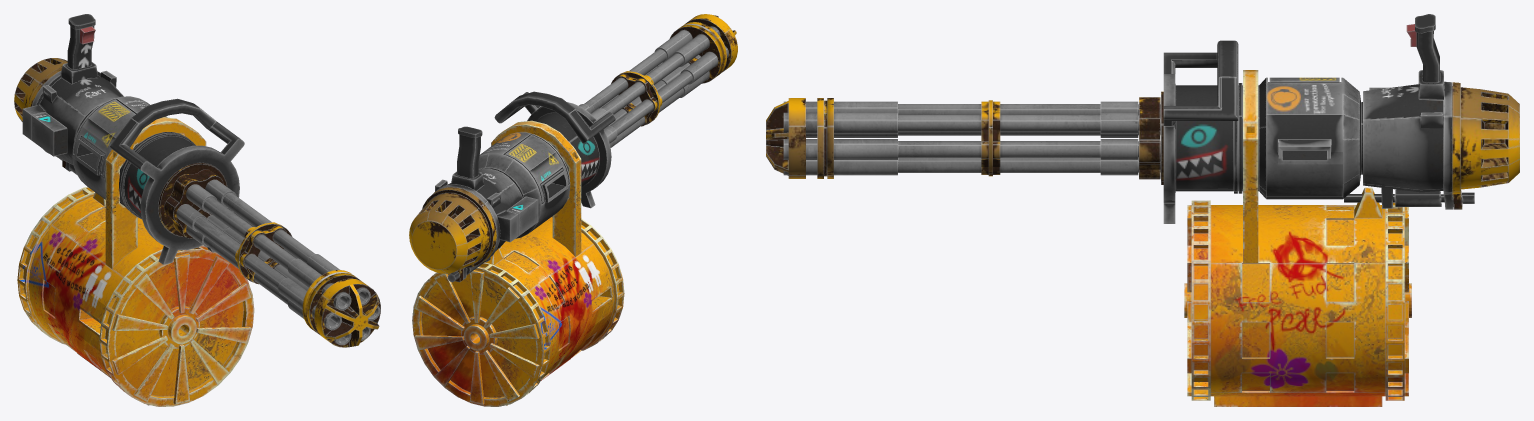
3 views of the same model, side by side, from view 1: azimuth 30°, elevation 25°; view 2: azimuth 150°, elevation 25°; view 3: azimuth 270°, elevation 25° (orthographic). The views are drawn at different scales.
Visible parts, largest first — view 1: Ammodrum, Body, Barrel_13 - Default_0, Barrel_09 - Default_0, Barrel_03 - Default_0; view 2: Ammodrum, Body, Barrel_13 - Default_0, Barrel_09 - Default_0; view 3: Ammodrum, Body, Barrel_13 - Default_0, Barrel_09 - Default_0.
Boxes of the visible parts, bbox=[...] form: Ammodrum: bbox=[17, 117, 254, 406]; Body: bbox=[14, 14, 244, 264]; Barrel_13 - Default_0: bbox=[176, 179, 380, 345]; Barrel_09 - Default_0: bbox=[164, 169, 380, 347]; Barrel_03 - Default_0: bbox=[158, 163, 227, 237]; Ammodrum: bbox=[412, 120, 624, 406]; Body: bbox=[409, 91, 615, 282]; Barrel_13 - Default_0: bbox=[579, 26, 728, 147]; Barrel_09 - Default_0: bbox=[611, 14, 737, 126]; Ammodrum: bbox=[1184, 70, 1411, 406]; Body: bbox=[1163, 14, 1519, 223]; Barrel_13 - Default_0: bbox=[783, 101, 1138, 175]; Barrel_09 - Default_0: bbox=[766, 97, 1160, 179].
Bounding box in the file's own units: 0.2387 × 0.4901 × 0.8971.
Materials: 7 (7 with a texture image).
